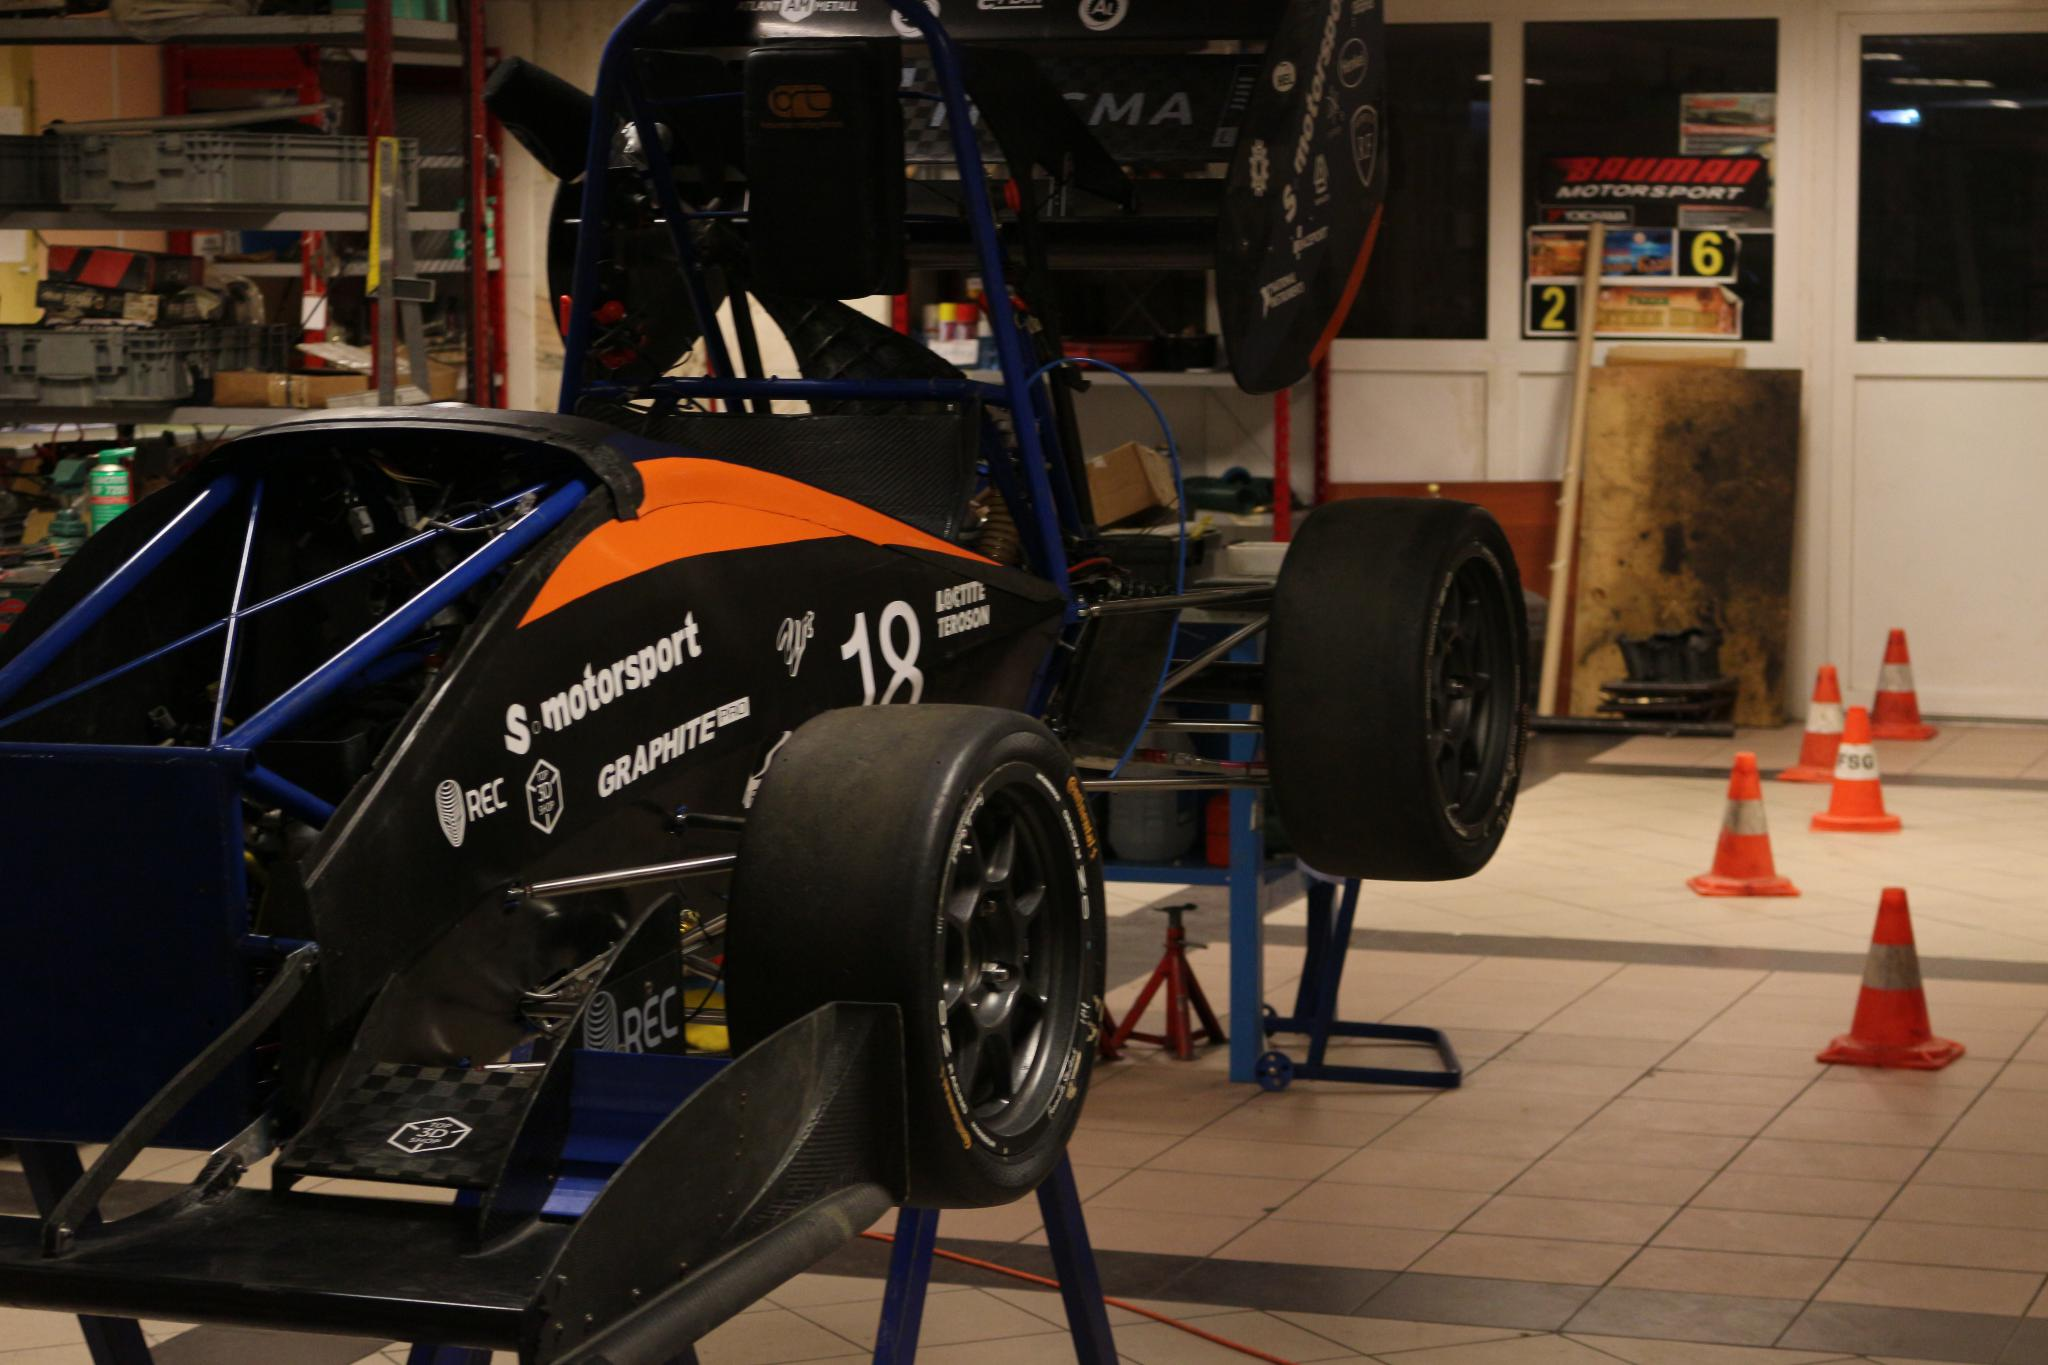Orange_Cone: (1818, 881, 1966, 1074), (1692, 750, 1798, 900), (1810, 704, 1900, 833), (1775, 664, 1867, 783), (1862, 622, 1940, 743)
